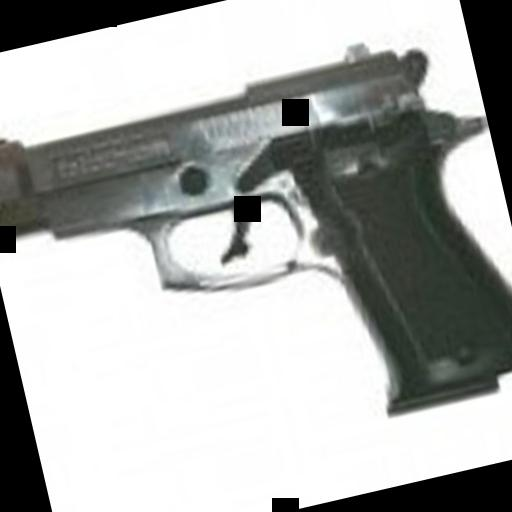Handgun: (0, 24, 512, 494)
